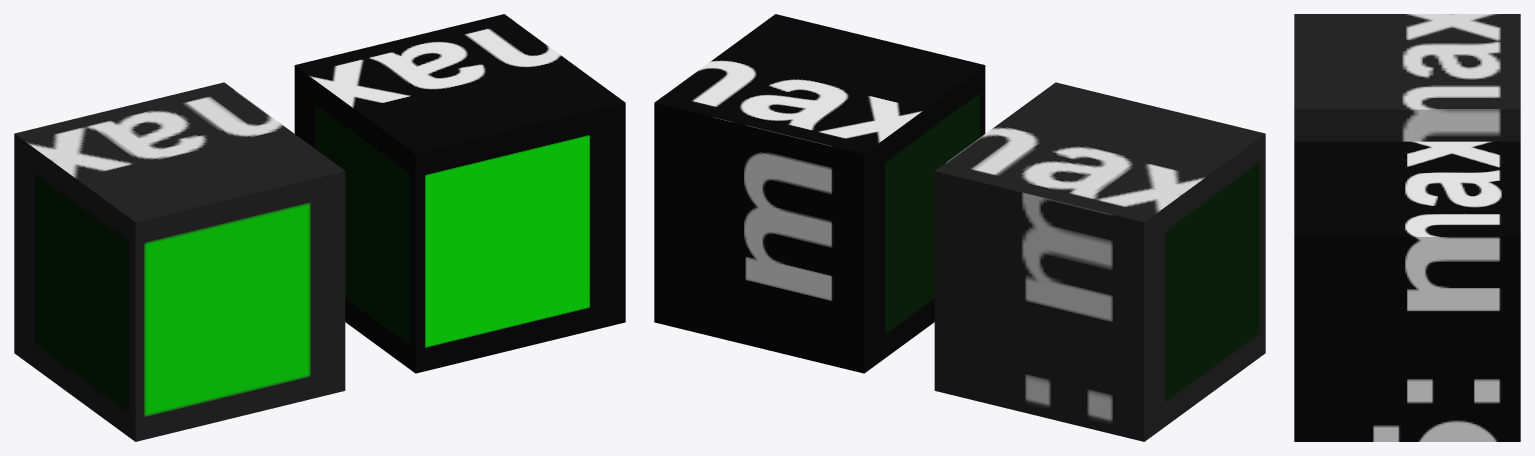
File: blender-default-cube-pbr-unsafe-colors.glb
3 renders of one model, left to right at view 1: azimuth 30°, elevation 25°; view 2: azimuth 150°, elevation 25°; view 3: azimuth 270°, elevation 25°, orthographic. The views are drawn at different scales.
Visible parts, largest first — view 1: safe, unsafe; view 2: safe, unsafe; view 3: unsafe, safe.
Boxes of the visible parts, left/top/right/bottom form: safe: left=14, top=82, right=345, bottom=441; unsafe: left=294, top=14, right=625, bottom=373; safe: left=934, top=82, right=1265, bottom=441; unsafe: left=654, top=14, right=985, bottom=373; unsafe: left=1294, top=141, right=1520, bottom=441; safe: left=1294, top=14, right=1520, bottom=141.
Bounding box in the file's own units: 4.67 × 2 × 2.
2 materials, 2 textured.
